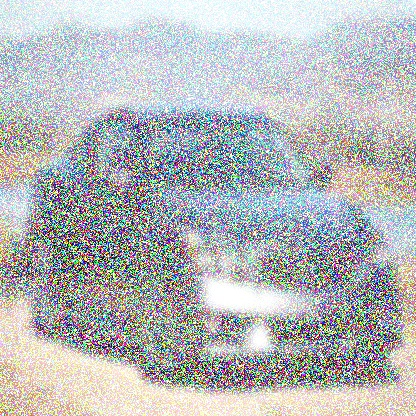Vehicle: (25, 98, 405, 391)
